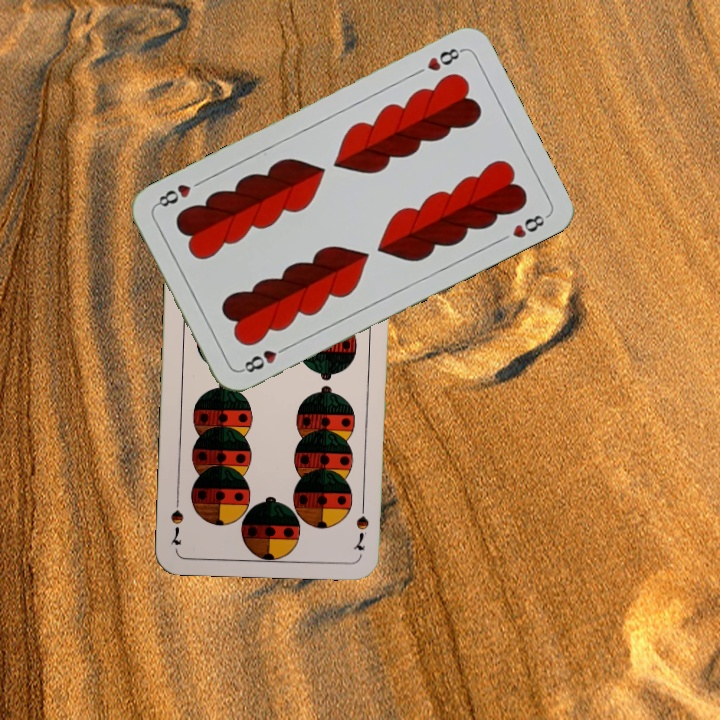H8: (237, 341, 292, 376), (422, 44, 466, 74)
S7: (349, 495, 372, 553)
